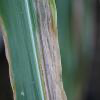Corn leaf blight: (1, 0, 64, 99)
